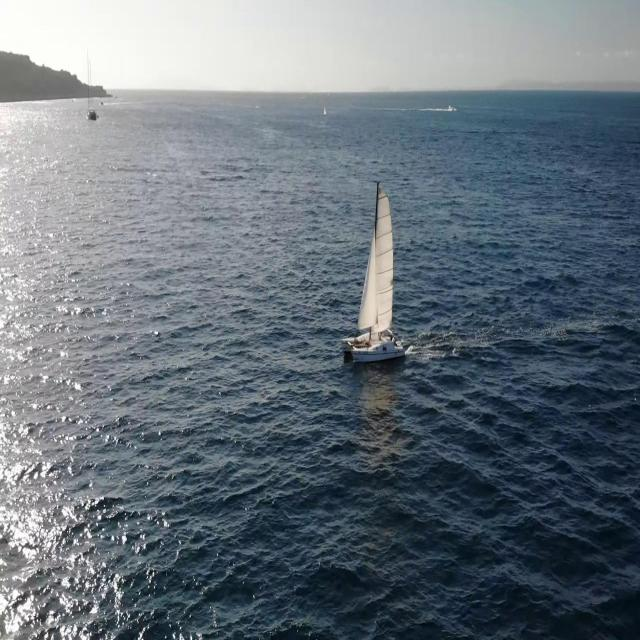sailboat: (349, 178, 407, 370)
